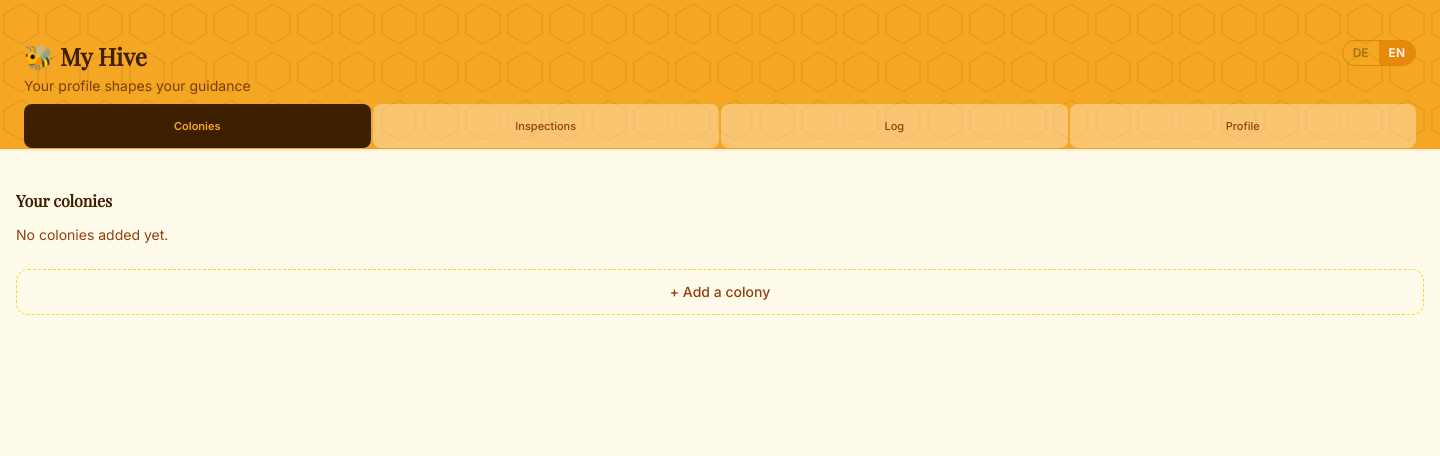
Test: MyHiveScreen › opens custom entry form when button clicked on log tab
Click the button "Log".
click(894, 126)  # box [721,104,1068,148]
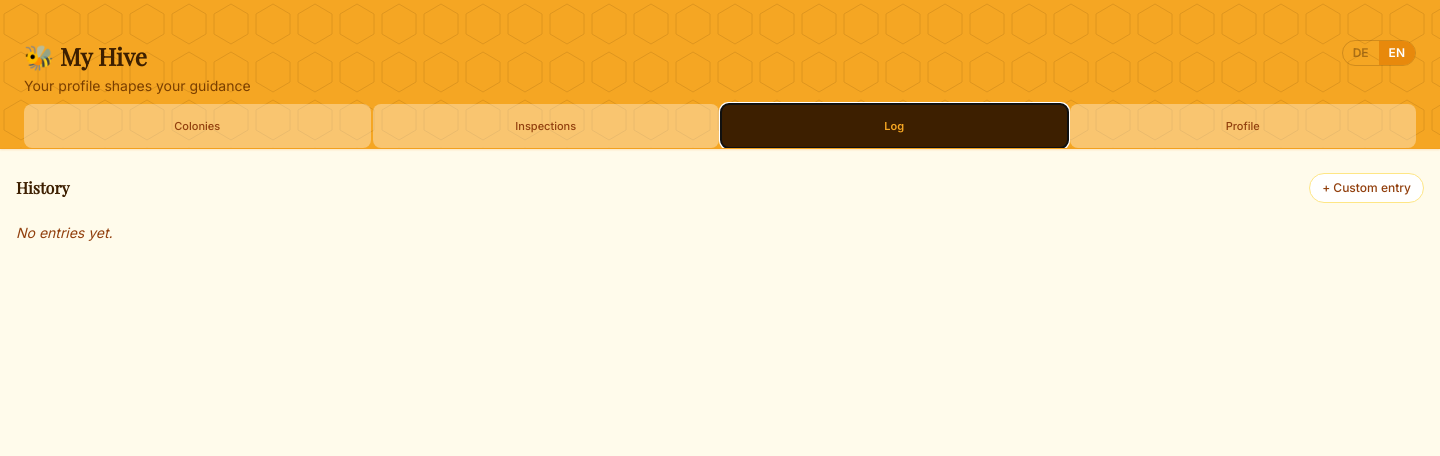
Click the button "+ Custom entry".
click(1367, 188)  # box [1309,173,1424,203]
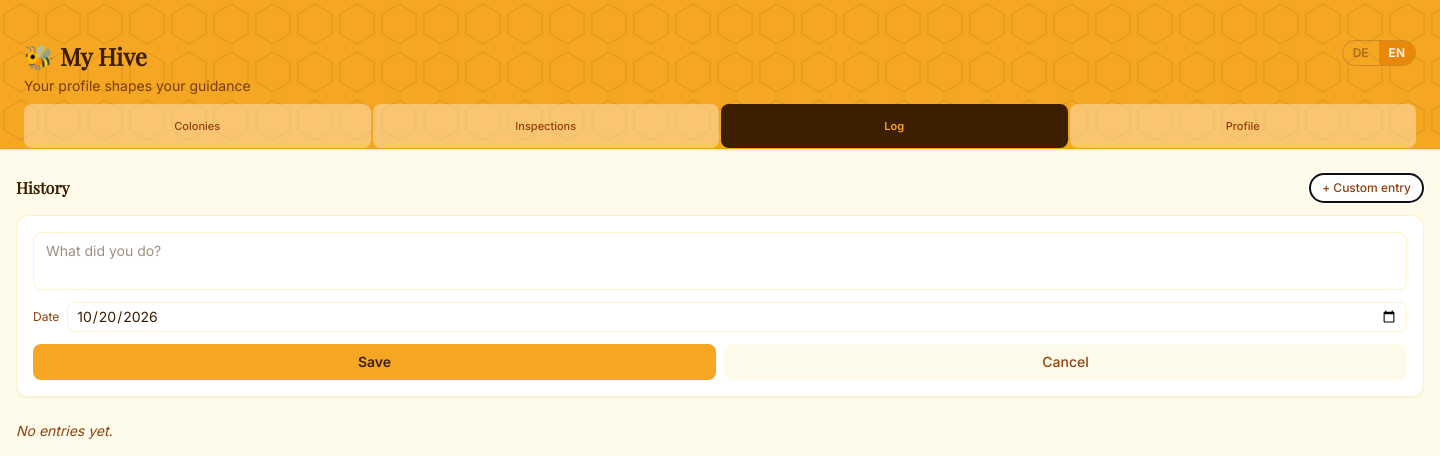
Check: the text box with placeholder "What did you do?" is shown, box [33,232,1407,290]
